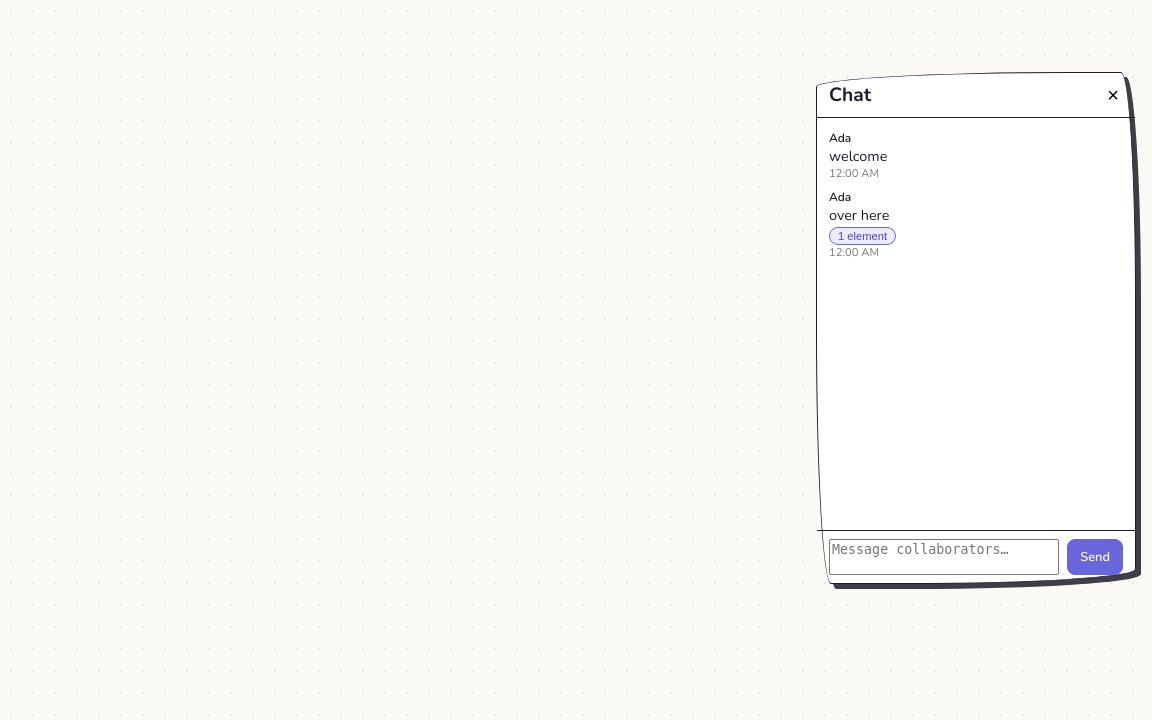
Test case: ChatPanel › focuses an anchor and disables the chip once its elements are gone
Expected: the text "welcome" is shown, [829,146,887,166]
Step 1. Click the button "1 element" → {"x": 863, "y": 236}, box [829,227,896,245]
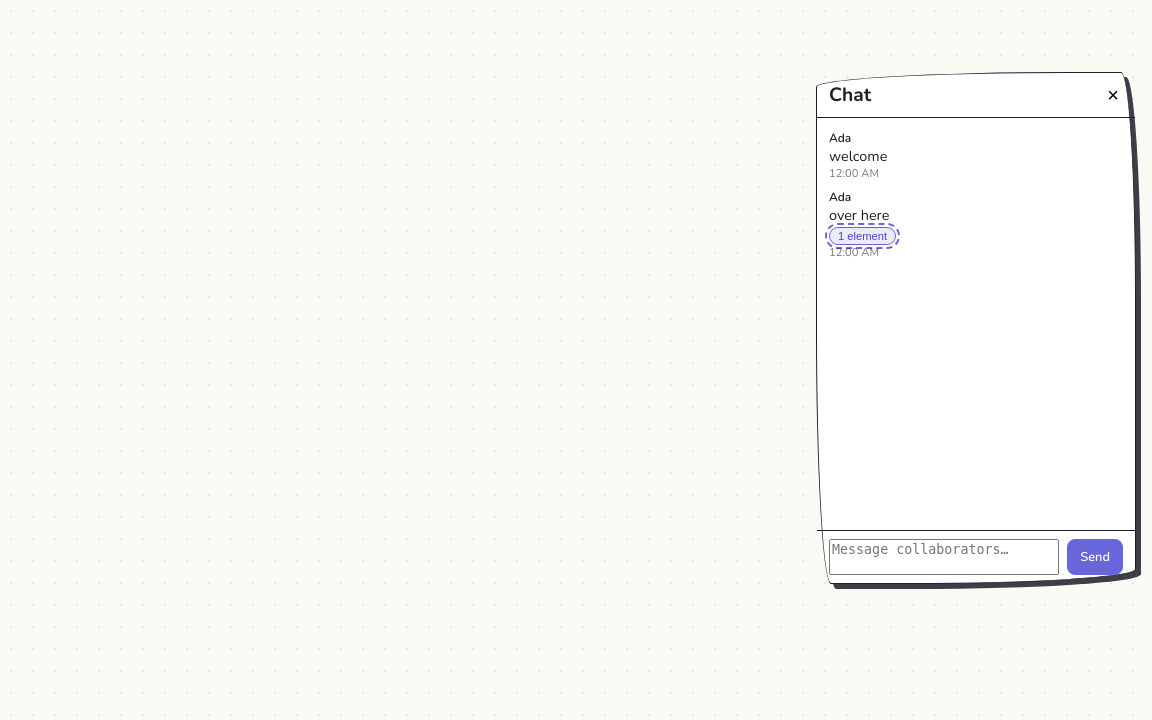
Step 2. Click the button "1 element" → {"x": 863, "y": 236}, box [829,227,896,245]
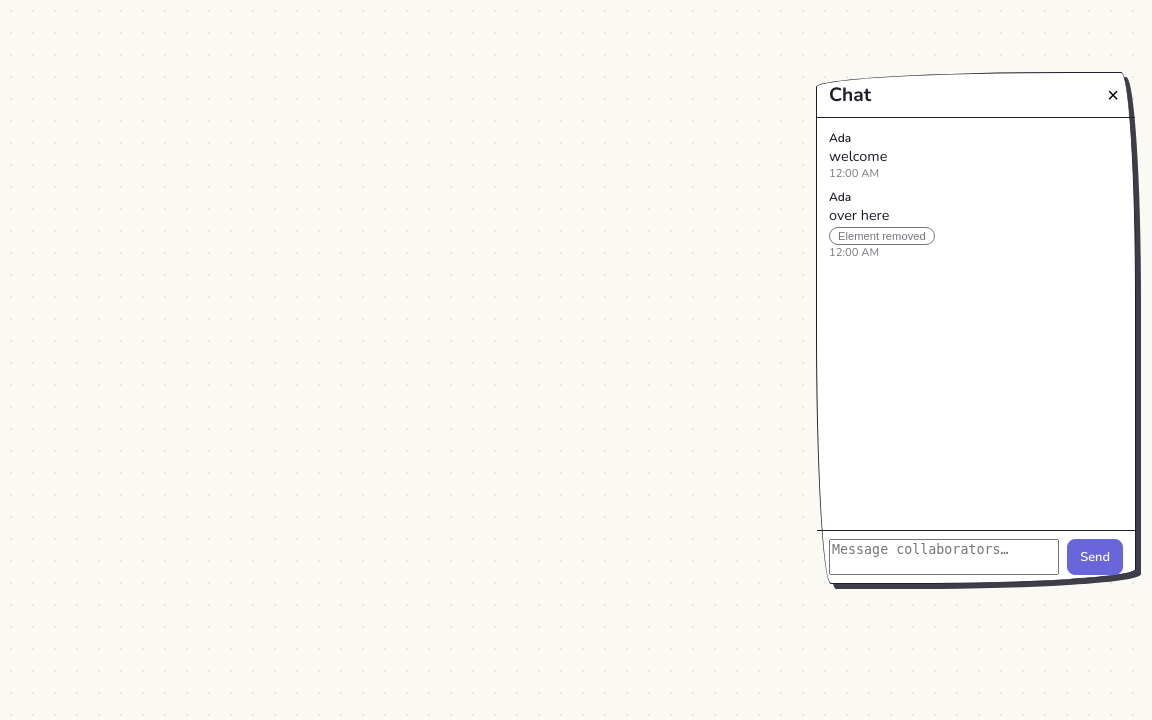
Result: the button "Element removed" is disabled at [829,227,935,245]
